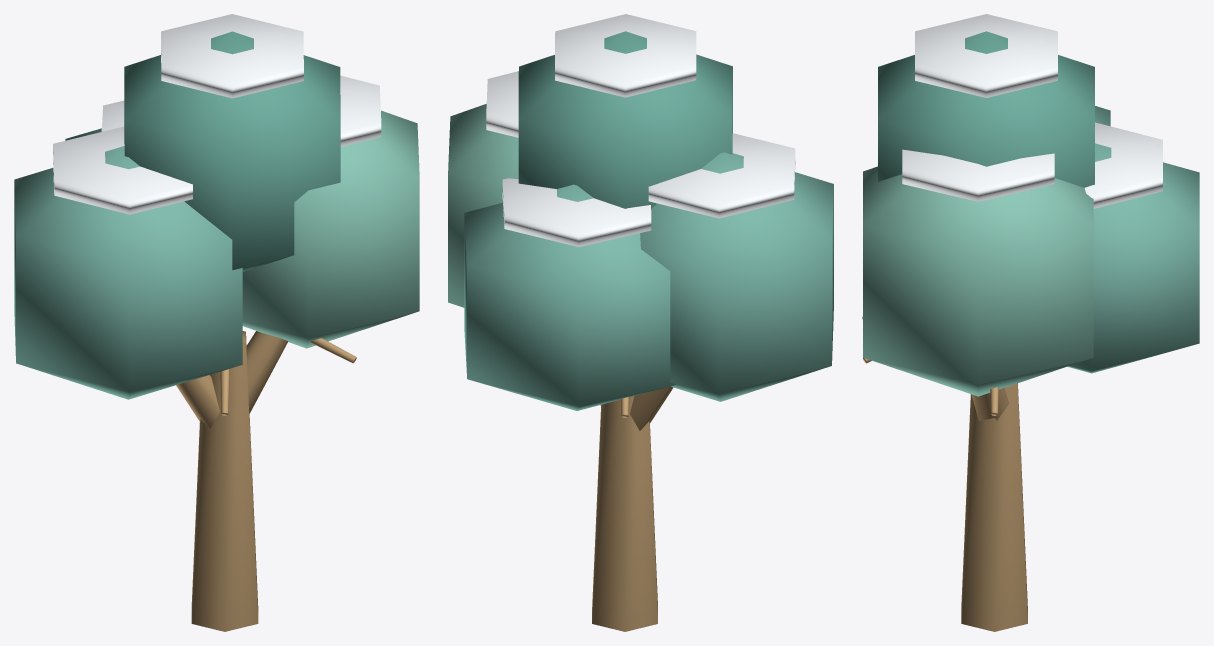
Rendered from tree_harvest_winter_low.glb.
3 views of the same model, side by side, from view 1: azimuth 30°, elevation 25°; view 2: azimuth 150°, elevation 25°; view 3: azimuth 270°, elevation 25° (orthographic).
Bounding box in the file's own units: 2.24 × 3.19 × 1.67.
